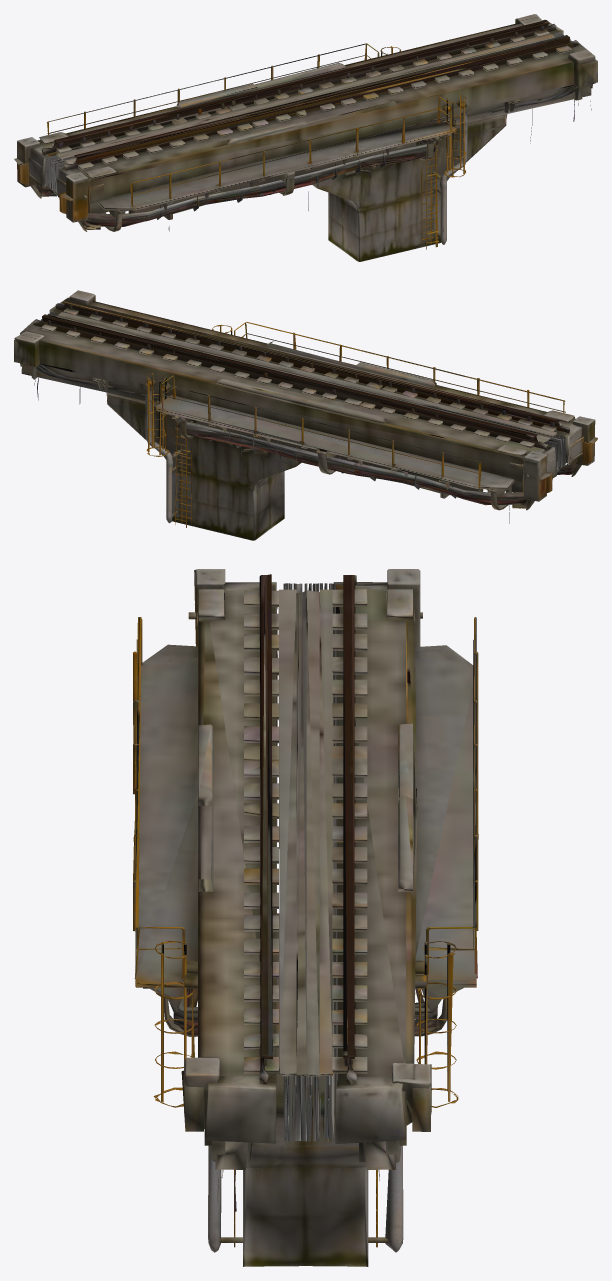
File: viaduct.glb
3 renders of one model, top to bottom at view 1: azimuth 30°, elevation 25°; view 2: azimuth 150°, elevation 25°; view 3: azimuth 270°, elevation 25°, orthographic. The views are drawn at different scales.
Parts seen in each view (by area): view 1: viaduct; view 2: viaduct; view 3: viaduct.
Part boxes in pixels (x1,y1,x2,y2): viaduct: [14, 14, 597, 261]; viaduct: [14, 290, 597, 540]; viaduct: [133, 569, 478, 1266].
Bounding box in the file's own units: 24 × 7.34 × 6.78.
1 material, 1 textured.
